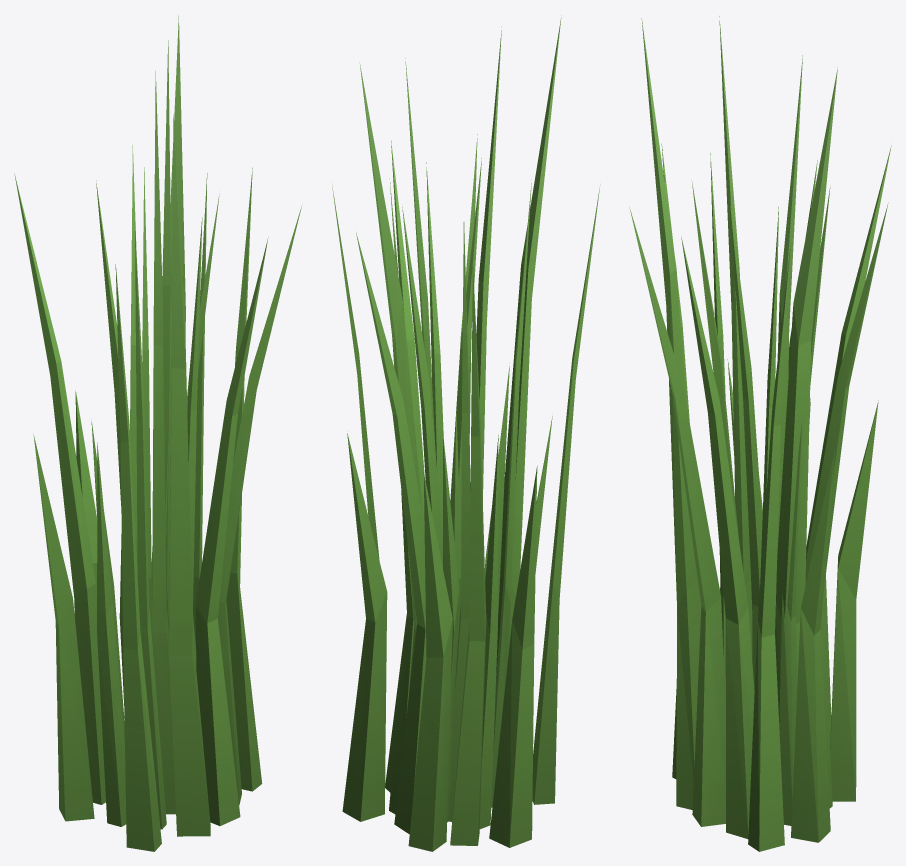
File: tallgrass_b.glb
3 renders of one model, left to right at view 1: azimuth 30°, elevation 25°; view 2: azimuth 150°, elevation 25°; view 3: azimuth 270°, elevation 25°, orthographic.
Parts seen in each view (by area): view 1: GrassHigh_D_4; view 2: GrassHigh_D_4; view 3: GrassHigh_D_4.
Part boxes in pixels (x1,y1,x2,y2): GrassHigh_D_4: (14,15,301,851); GrassHigh_D_4: (332,15,600,851); GrassHigh_D_4: (629,16,891,851).
Size of the model in its own units: 0.2456 by 0.85 by 0.2612.
1 material, 1 textured.
